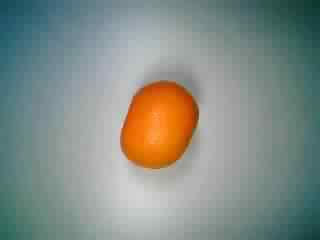orange: (118, 72, 201, 173)
